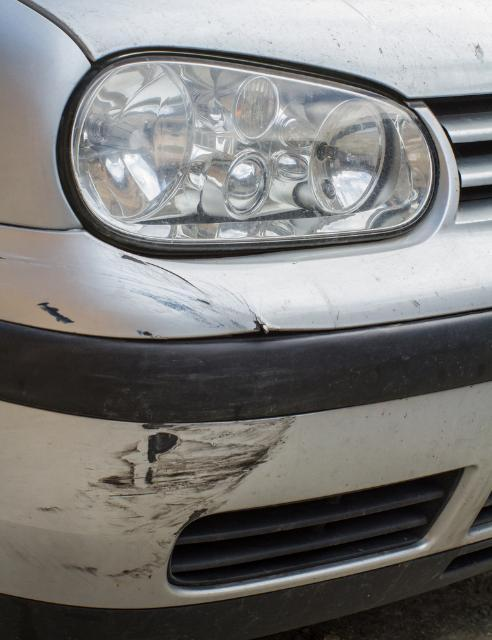Bumper: (9, 239, 392, 597)
